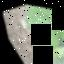Morning glory: (10, 1, 64, 64)
